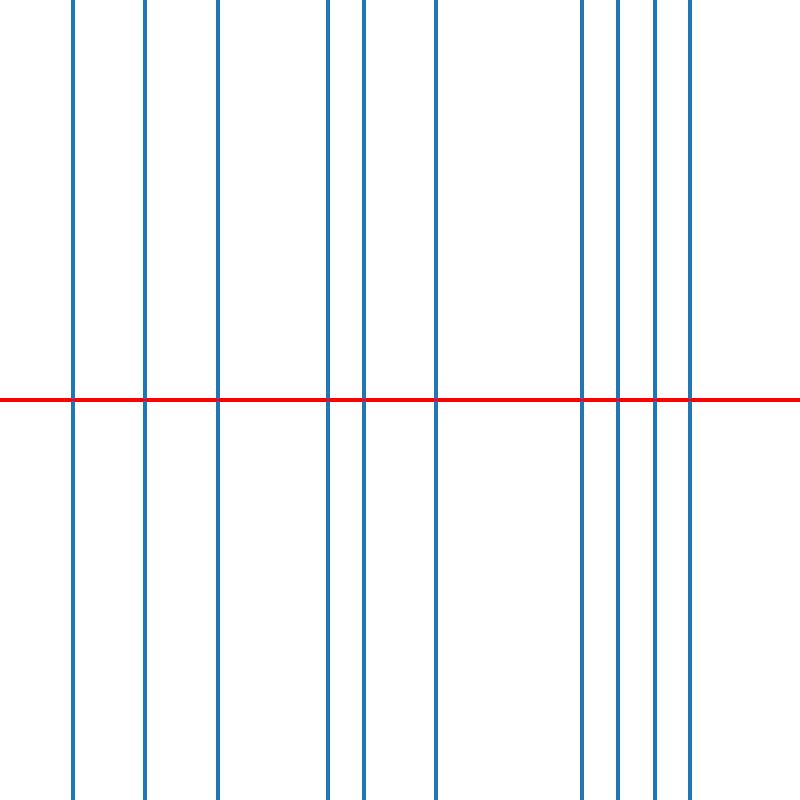root: (432, 396, 440, 404), (650, 396, 658, 404), (141, 396, 149, 404), (214, 396, 221, 404), (323, 396, 330, 404), (69, 396, 76, 404), (578, 396, 585, 404), (687, 396, 694, 404), (360, 396, 367, 404), (614, 396, 621, 404)
